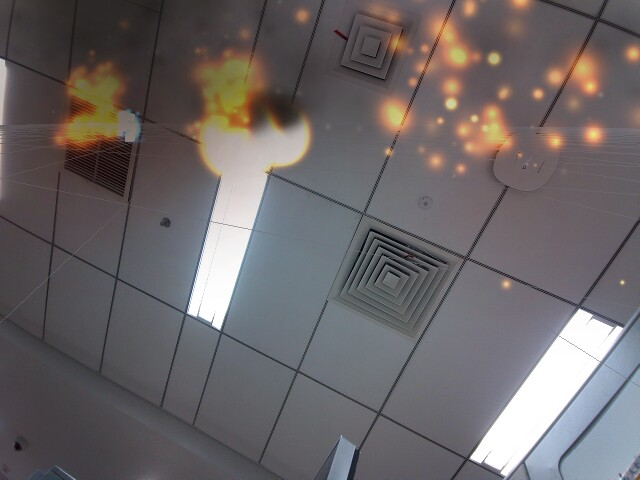fire: (194, 114, 267, 177), (260, 102, 314, 168)
